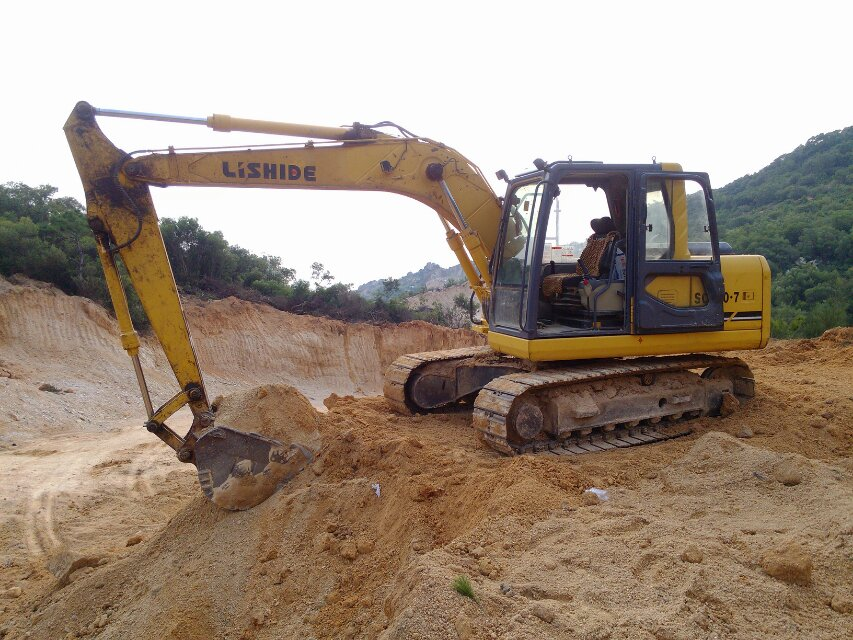excavator: (62, 86, 776, 525)
